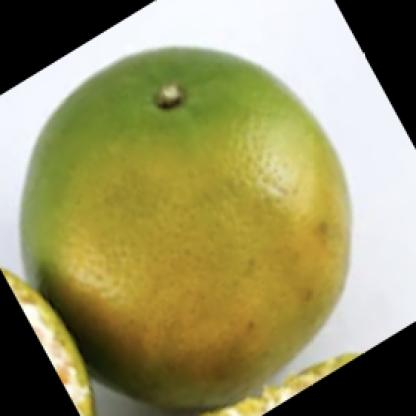fresh: (21, 46, 350, 409)
